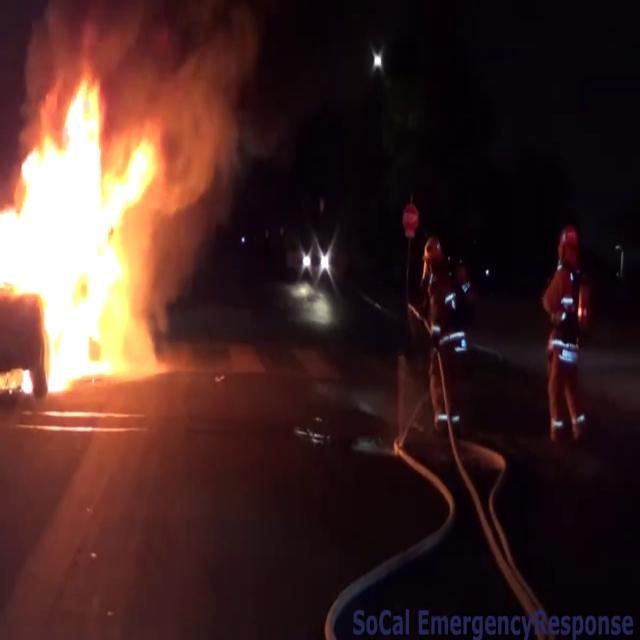Fire: (0, 66, 167, 400)
Smoke: (109, 0, 273, 160)
